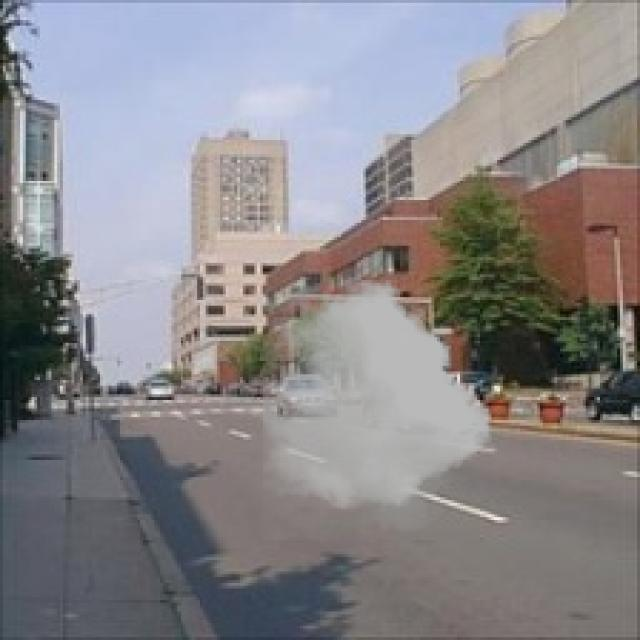smoke: (263, 274, 491, 540)
